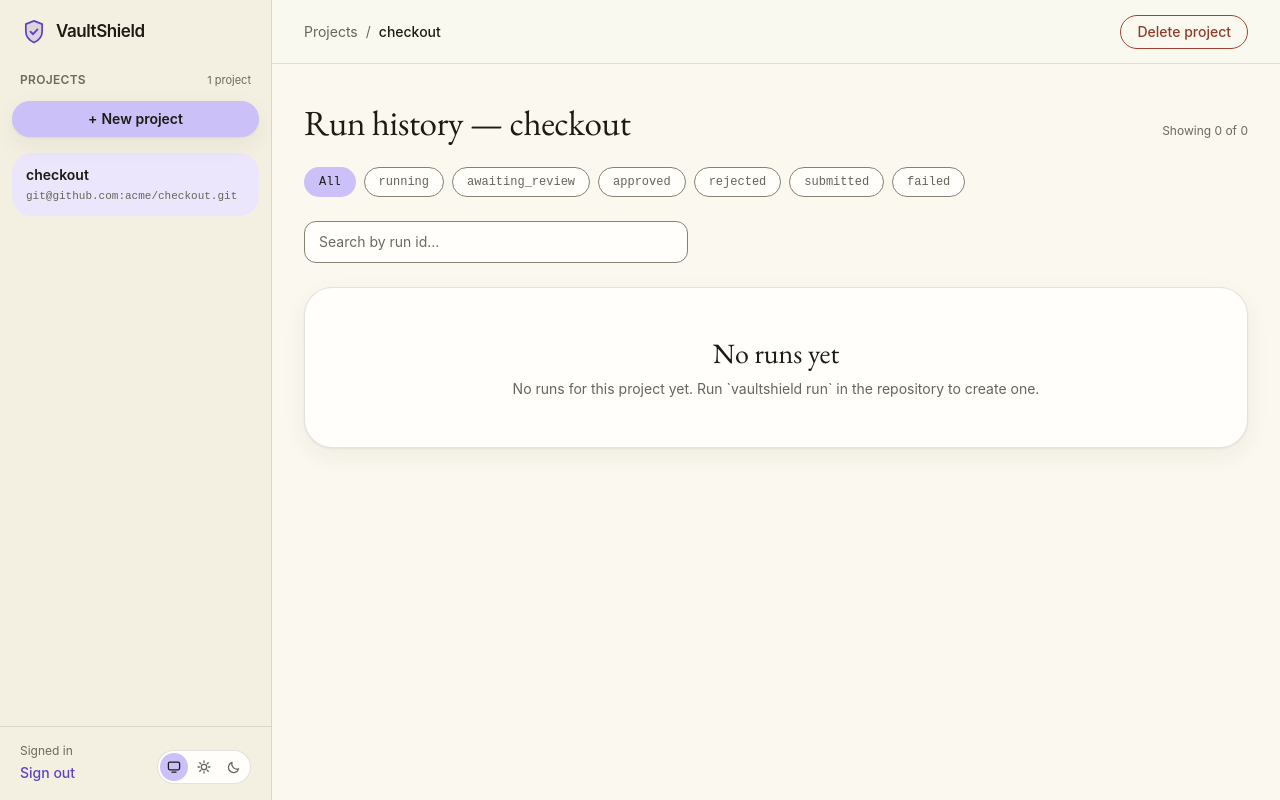
Test case: cancels the delete on Escape without deleting
Click the button "Delete project" at (1184, 32), box [1120,14,1248,48]
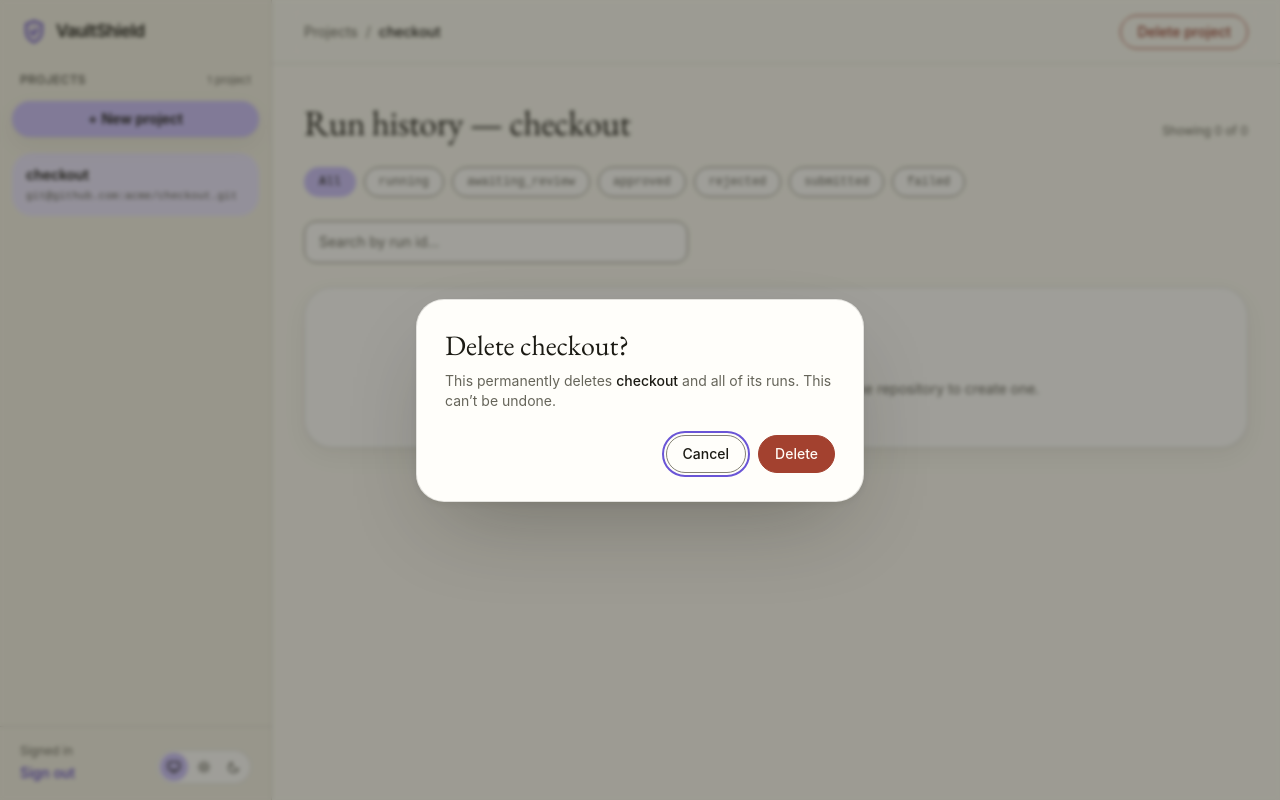
Press Escape
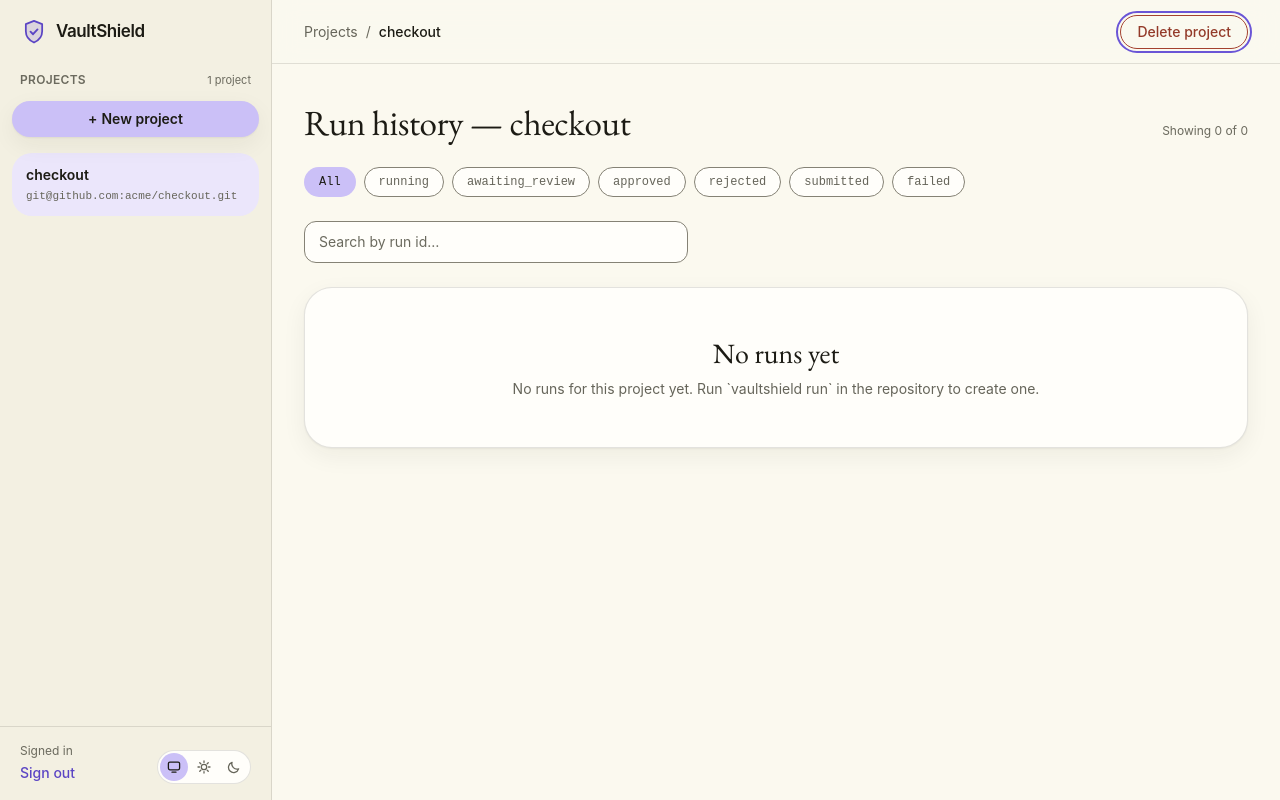
Result: the dialog is gone
